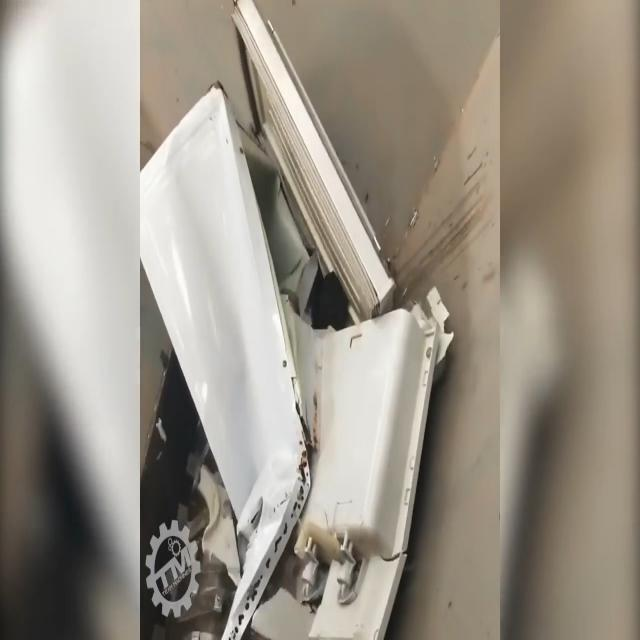Broyeur: (140, 386, 245, 640)
